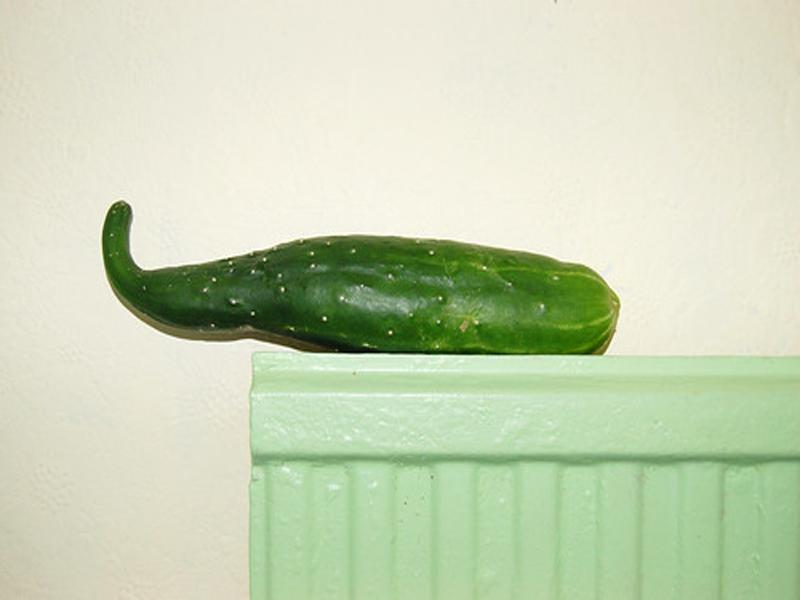Cucumber: (100, 202, 618, 355)
